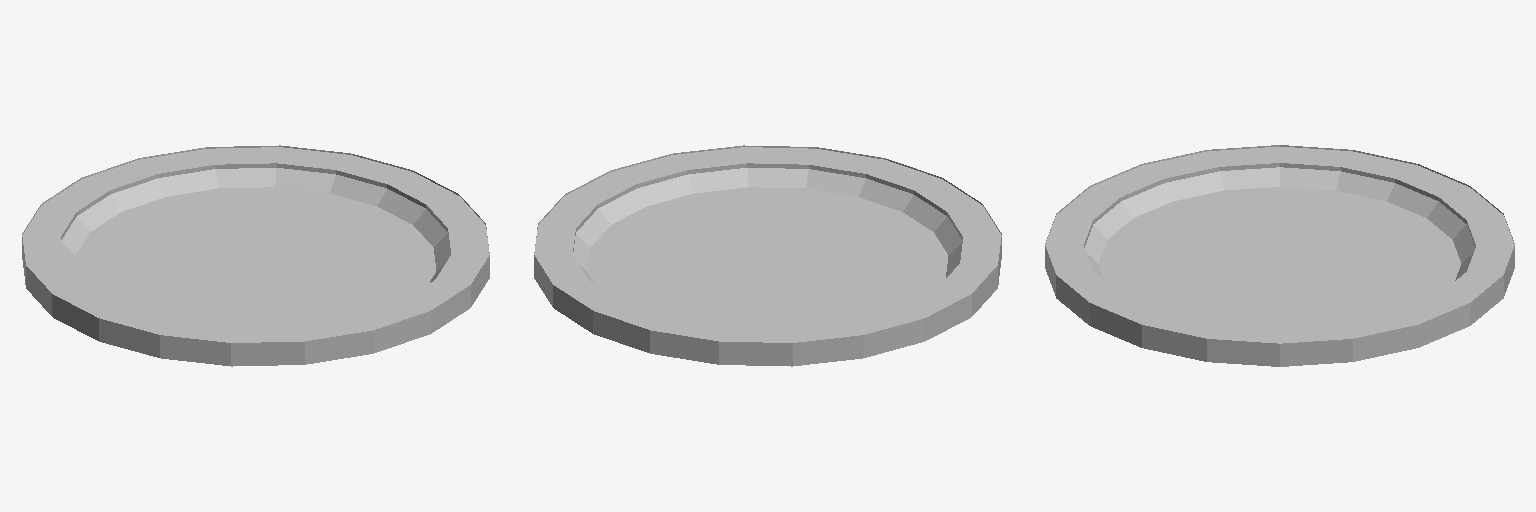
The model's file is plate.obj.
3 renders of one model, left to right at view 1: azimuth 30°, elevation 25°; view 2: azimuth 150°, elevation 25°; view 3: azimuth 270°, elevation 25°, orthographic.
Visible parts, largest first — view 1: pCylinder1; view 2: pCylinder1; view 3: pCylinder1.
Boxes of the visible parts, <box> form: pCylinder1: <box>22,145,489,366</box>; pCylinder1: <box>534,145,1001,366</box>; pCylinder1: <box>1045,145,1514,366</box>.
Bounding box in the file's own units: 2.4 × 0.1313 × 2.4.